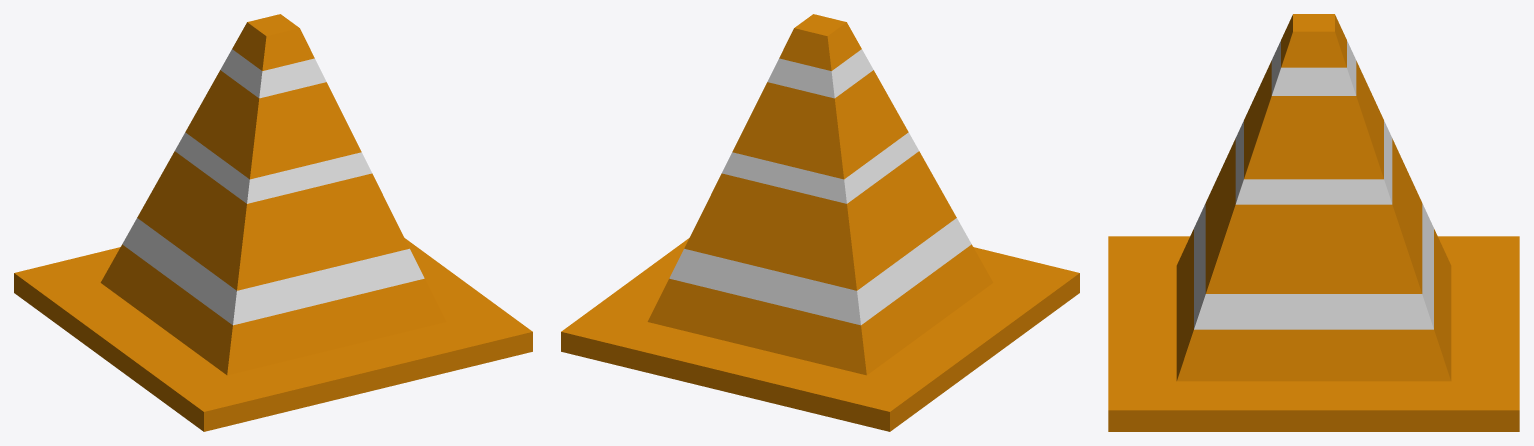
3 renders of one model, left to right at view 1: azimuth 30°, elevation 25°; view 2: azimuth 150°, elevation 25°; view 3: azimuth 270°, elevation 25°, orthographic. The views are drawn at different scales.
Parts seen in each view (by area): view 1: cone_de_transito; view 2: cone_de_transito; view 3: cone_de_transito.
Boxes of the visible parts, box(x1,y1,x2,y2) form: cone_de_transito: box(14, 14, 532, 431); cone_de_transito: box(561, 14, 1079, 431); cone_de_transito: box(1108, 14, 1519, 431).
Bounding box in the file's own units: 9.72 × 8.4 × 9.72.
